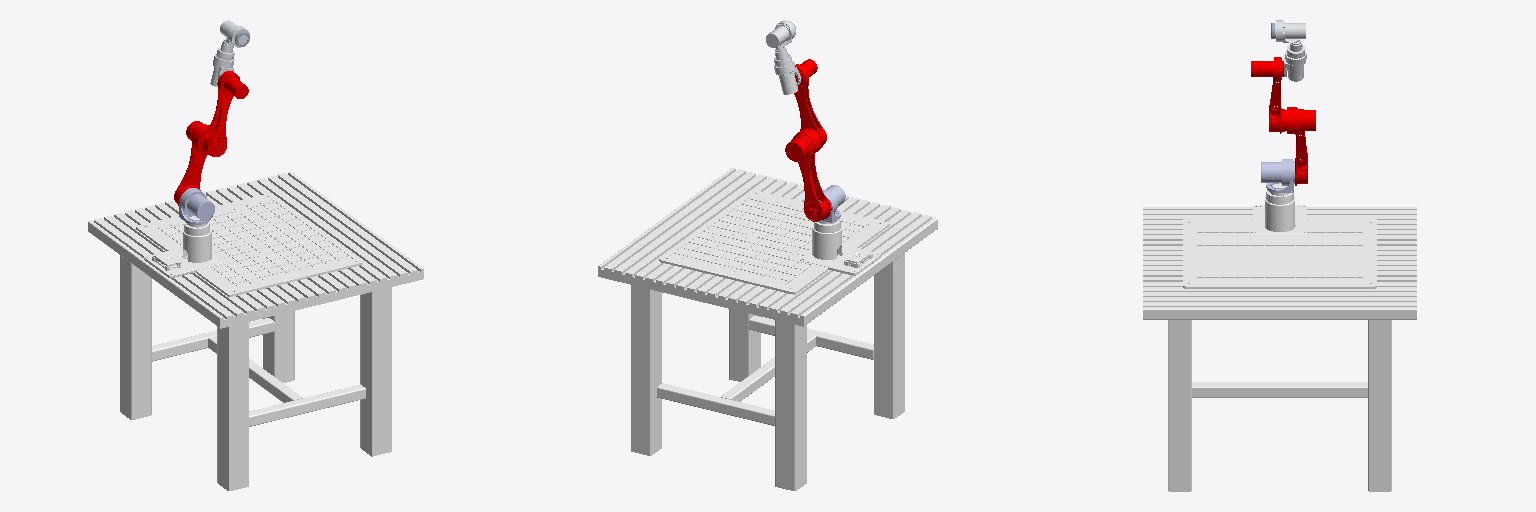
The robot description file, URDF, robot "Dr_arm_6_desk":
<?xml version="1.0" encoding="utf-8"?>
<!-- This URDF was automatically created by SolidWorks to URDF Exporter! Originally created by Stephen Brawner (brawner@gmail.com) 
     Commit Version: 1.6.0-4-g7f85cfe  Build Version: 1.6.7995.38578
     For more information, please see http://wiki.ros.org/sw_urdf_exporter -->
<robot
  name="Dr_arm_6_desk">
  <link
    name="base_link">
    <inertial>
      <origin
        xyz="0.22341 1.9022E-06 -0.36195"
        rpy="0 0 0" />
      <mass
        value="49.994" />
      <inertia
        ixx="6.0558"
        ixy="-9.9038E-06"
        ixz="2.4652E-05"
        iyy="4.9793"
        iyz="1.0551E-07"
        izz="6.7862" />
    </inertial>
    <visual>
      <origin
        xyz="0 0 0"
        rpy="0 0 0" />
      <geometry>
        <mesh
          filename="base_link.STL" />
      </geometry>
      <material
        name="">
        <color
          rgba="1 1 1 1" />
      </material>
    </visual>
    <collision>
      <origin
        xyz="0 0 0"
        rpy="0 0 0" />
      <geometry>
        <mesh
          filename="base_link.STL" />
      </geometry>
    </collision>
  </link>
  <link
    name="Link_1">
    <inertial>
      <origin
        xyz="8.6995E-10 0.00050458 -0.0046158"
        rpy="0 0 0" />
      <mass
        value="0.57909" />
      <inertia
        ixx="0.00064662"
        ixy="-8.1088E-12"
        ixz="-1.3748E-11"
        iyy="0.00048696"
        iyz="-1.8347E-05"
        izz="0.00067052" />
    </inertial>
    <visual>
      <origin
        xyz="0 0 0"
        rpy="0 0 0" />
      <geometry>
        <mesh
          filename="Link_1.STL" />
      </geometry>
      <material
        name="">
        <color
          rgba="0.79216 0.81961 0.93333 1" />
      </material>
    </visual>
    <collision>
      <origin
        xyz="0 0 0"
        rpy="0 0 0" />
      <geometry>
        <mesh
          filename="Link_1.STL" />
      </geometry>
    </collision>
  </link>
  <joint
    name="Joint_1"
    type="revolute">
    <origin
      xyz="0 0 0"
      rpy="0 0 0" />
    <parent
      link="base_link" />
    <child
      link="Link_1" />
    <axis
      xyz="0 0 1" />
    <limit
      lower="-1.5"
      upper="1.5"
      effort="0"
      velocity="0" />
  </joint>
  <link
    name="Link_2">
    <inertial>
      <origin
        xyz="0.19121 -0.00017114 -0.060879"
        rpy="0 0 0" />
      <mass
        value="0.66136" />
      <inertia
        ixx="0.00065139"
        ixy="-1.5198E-08"
        ixz="-5.039E-07"
        iyy="0.0016167"
        iyz="3.2794E-07"
        izz="0.0014892" />
    </inertial>
    <visual>
      <origin
        xyz="0 0 0"
        rpy="0 0 0" />
      <geometry>
        <mesh
          filename="Link_2.STL" />
      </geometry>
      <material
        name="">
        <color
          rgba="1 0 0 1" />
      </material>
    </visual>
    <collision>
      <origin
        xyz="0 0 0"
        rpy="0 0 0" />
      <geometry>
        <mesh
          filename="Link_2.STL" />
      </geometry>
    </collision>
  </link>
  <joint
    name="Joint_2"
    type="revolute">
    <origin
      xyz="0 0 0"
      rpy="1.5708 0 0" />
    <parent
      link="Link_1" />
    <child
      link="Link_2" />
    <axis
      xyz="0 0 -1" />
    <limit
      lower="-2"
      upper="-0.6"
      effort="0"
      velocity="0" />
  </joint>
  <link
    name="Link_3">
    <inertial>
      <origin
        xyz="0.17761 -0.00026979 0.028228"
        rpy="0 0 0" />
      <mass
        value="0.41995" />
      <inertia
        ixx="0.00035928"
        ixy="1.4175E-08"
        ixz="1.4022E-05"
        iyy="0.0012688"
        iyz="-3.2767E-07"
        izz="0.0011438" />
    </inertial>
    <visual>
      <origin
        xyz="0 0 0"
        rpy="0 0 0" />
      <geometry>
        <mesh
          filename="Link_3.STL" />
      </geometry>
      <material
        name="">
        <color
          rgba="1 0 0 1" />
      </material>
    </visual>
    <collision>
      <origin
        xyz="0 0 0"
        rpy="0 0 0" />
      <geometry>
        <mesh
          filename="Link_3.STL" />
      </geometry>
    </collision>
  </link>
  <joint
    name="Joint_3"
    type="revolute">
    <origin
      xyz="0.224 0 0"
      rpy="0 0 0" />
    <parent
      link="Link_2" />
    <child
      link="Link_3" />
    <axis
      xyz="0 0 1" />
    <limit
      lower="-0.5"
      upper="1"
      effort="0"
      velocity="0" />
  </joint>
  <link
    name="Link_4">
    <inertial>
      <origin
        xyz="0.035627 -3.3901E-09 -0.050721"
        rpy="0 0 0" />
      <mass
        value="0.34986" />
      <inertia
        ixx="0.00015566"
        ixy="-2.4795E-12"
        ixz="3.5281E-06"
        iyy="0.00031002"
        iyz="-3.8184E-08"
        izz="0.00031219" />
    </inertial>
    <visual>
      <origin
        xyz="0 0 0"
        rpy="0 0 0" />
      <geometry>
        <mesh
          filename="Link_4.STL" />
      </geometry>
      <material
        name="">
        <color
          rgba="0.89804 0.91765 0.92941 1" />
      </material>
    </visual>
    <collision>
      <origin
        xyz="0 0 0"
        rpy="0 0 0" />
      <geometry>
        <mesh
          filename="Link_4.STL" />
      </geometry>
    </collision>
  </link>
  <joint
    name="Joint_4"
    type="revolute">
    <origin
      xyz="0.224 0 0"
      rpy="0 0 0" />
    <parent
      link="Link_3" />
    <child
      link="Link_4" />
    <axis
      xyz="0 0 -1" />
    <limit
      lower="-1.5"
      upper="1.5"
      effort="0"
      velocity="0" />
  </joint>
  <link
    name="Link_5">
    <inertial>
      <origin
        xyz="-0.025179 -1.9039E-09 0.15848"
        rpy="0 0 0" />
      <mass
        value="0.32328" />
      <inertia
        ixx="0.00014034"
        ixy="3.6588E-11"
        ixz="3.1897E-06"
        iyy="0.00030022"
        iyz="2.1092E-11"
        izz="0.00029877" />
    </inertial>
    <visual>
      <origin
        xyz="0 0 0"
        rpy="0 0 0" />
      <geometry>
        <mesh
          filename="Link_5.STL" />
      </geometry>
      <material
        name="">
        <color
          rgba="0.89804 0.91765 0.92941 1" />
      </material>
    </visual>
    <collision>
      <origin
        xyz="0 0 0"
        rpy="0 0 0" />
      <geometry>
        <mesh
          filename="Link_5.STL" />
      </geometry>
    </collision>
  </link>
  <joint
    name="Joint_5"
    type="revolute">
    <origin
      xyz="0 0 -0.0524"
      rpy="0 1.5708 0" />
    <parent
      link="Link_4" />
    <child
      link="Link_5" />
    <axis
      xyz="0 0 1" />
    <limit
      lower="-3.14"
      upper="3.14"
      effort="0"
      velocity="0" />
  </joint>
  <link
    name="Link_6">
    <inertial>
      <origin
        xyz="-1.1102E-16 -1.6653E-16 0.075469"
        rpy="0 0 0" />
      <mass
        value="0.012646" />
      <inertia
        ixx="3.5343E-06"
        ixy="-4.2352E-22"
        ixz="6.8711E-23"
        iyy="3.5343E-06"
        iyz="-2.4346E-22"
        izz="6.8601E-06" />
    </inertial>
    <visual>
      <origin
        xyz="0 0 0"
        rpy="0 0 0" />
      <geometry>
        <mesh
          filename="Link_6.STL" />
      </geometry>
      <material
        name="">
        <color
          rgba="0.66667 0.69804 0.76863 1" />
      </material>
    </visual>
    <collision>
      <origin
        xyz="0 0 0"
        rpy="0 0 0" />
      <geometry>
        <mesh
          filename="Link_6.STL" />
      </geometry>
    </collision>
  </link>
  <joint
    name="Joint_6"
    type="revolute">
    <origin
      xyz="0 0 0.164"
      rpy="-1.5708 -1.4477 1.5708" />
    <parent
      link="Link_5" />
    <child
      link="Link_6" />
    <axis
      xyz="0 0 1" />
    <limit
      lower="-3.14"
      upper="3.14"
      effort="0"
      velocity="0" />
  </joint>
</robot>

--- What the picture shows (computed from the rendered views, not written in the file) ---
The picture shows the robot from 3 angles, left to right: view 1: azimuth 30°, elevation 25°; view 2: azimuth 150°, elevation 25°; view 3: azimuth 270°, elevation 25°; orthographic projection.
Model Dr_arm_6_desk with 7 links and 6 joints (6 revolute), rooted at base_link, posed all joints at 0 but 1 set to mid-range because 0 is outside their limits (Joint_2 = -1.3).
Links seen in each view (by area): view 1: base_link, Link_3, Link_2, Link_1, Link_4; view 2: base_link, Link_2, Link_3, Link_4, Link_5; view 3: base_link, Link_2, Link_3, Link_1, Link_4, Link_5.
Link boxes in pixels (<box>): base_link: <box>88,172,423,490</box>; Link_3: <box>201,71,248,156</box>; Link_2: <box>174,121,212,205</box>; Link_1: <box>179,188,214,224</box>; Link_4: <box>210,41,234,86</box>; base_link: <box>598,168,937,490</box>; Link_2: <box>785,129,831,221</box>; Link_3: <box>794,59,826,150</box>; Link_4: <box>774,47,800,94</box>; Link_5: <box>766,20,795,49</box>; base_link: <box>1143,183,1416,491</box>; Link_2: <box>1282,107,1315,185</box>; Link_3: <box>1251,57,1283,133</box>; Link_1: <box>1261,159,1294,192</box>; Link_4: <box>1284,39,1306,81</box>; Link_5: <box>1275,20,1305,50</box>.
Size in the robot's own frame: 0.8 by 0.9 by 1.53 metres.
Meshes: 7 distinct files referenced, 7 mesh visuals loaded (7 binary STL).
